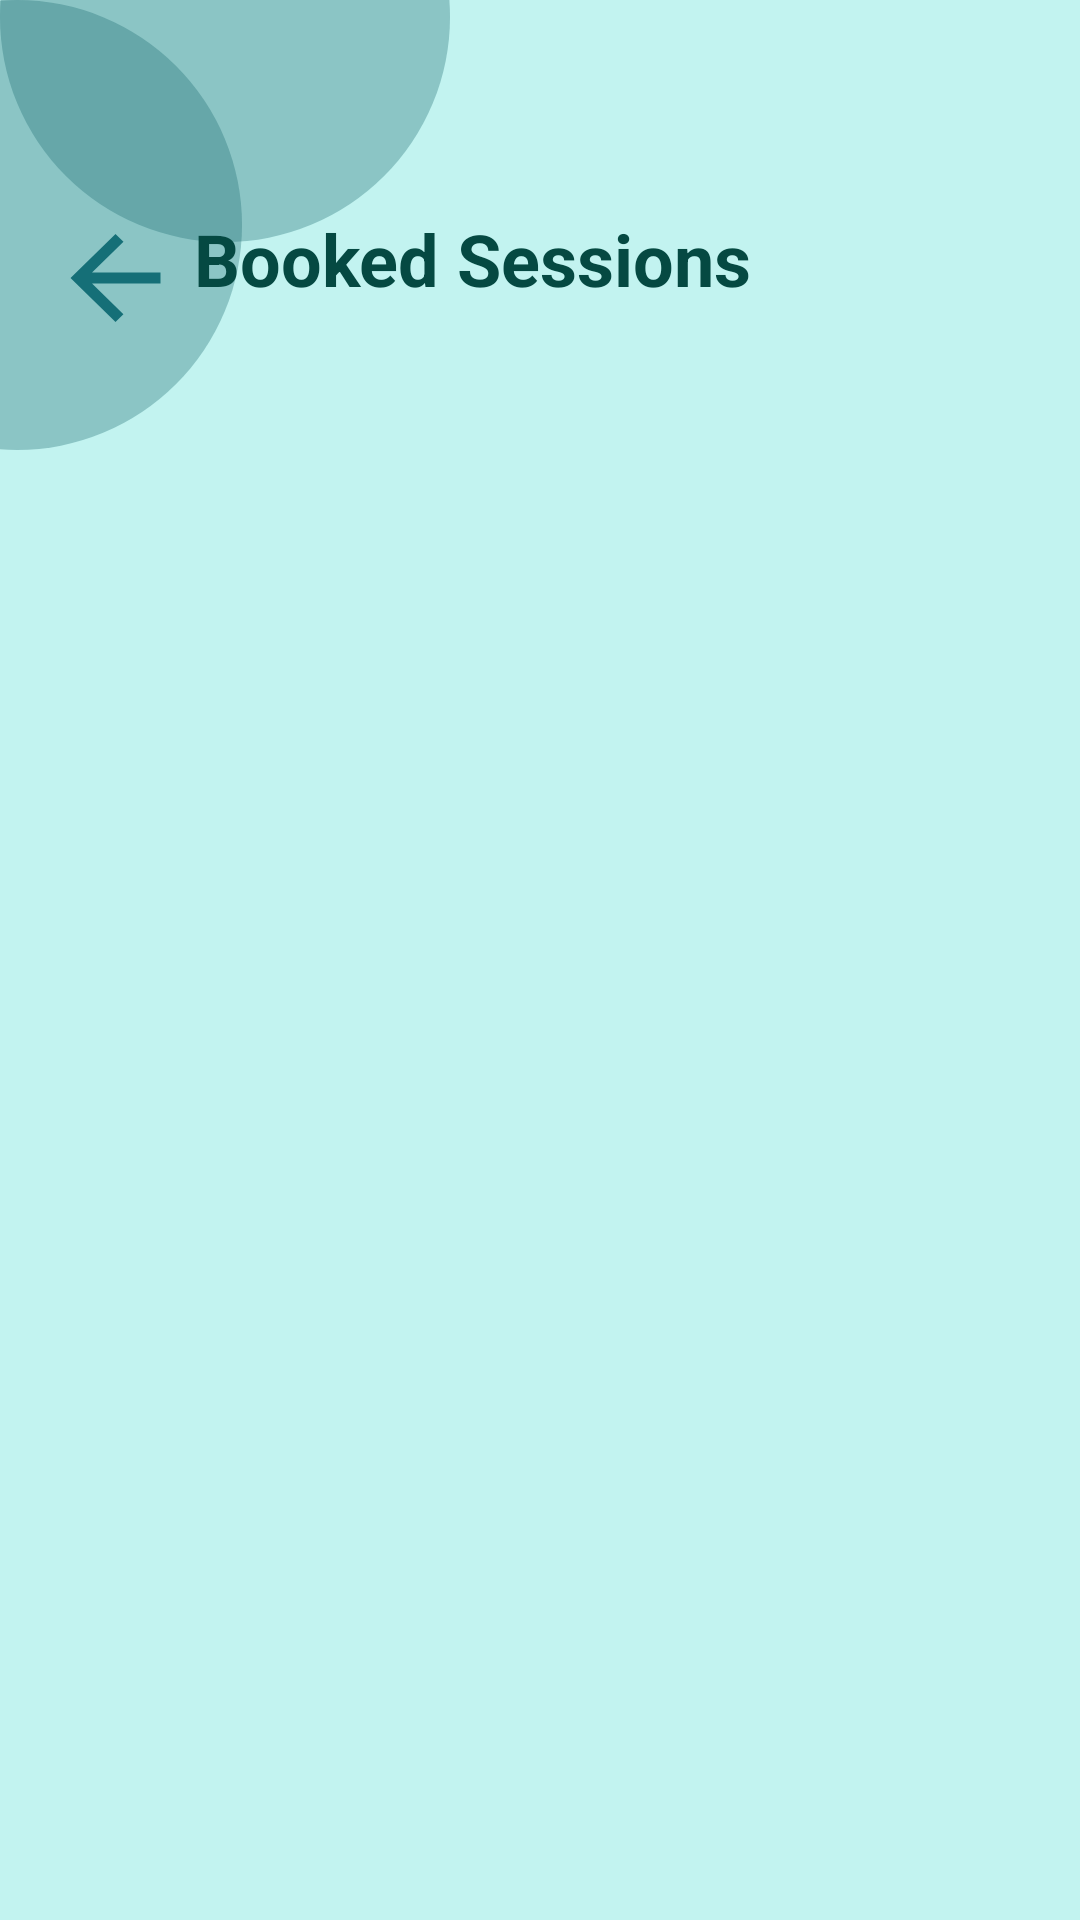

Icons on this 1080w x 1920h Android screen, each with the point to tap as (x,y):
backarrow: (116,278)
